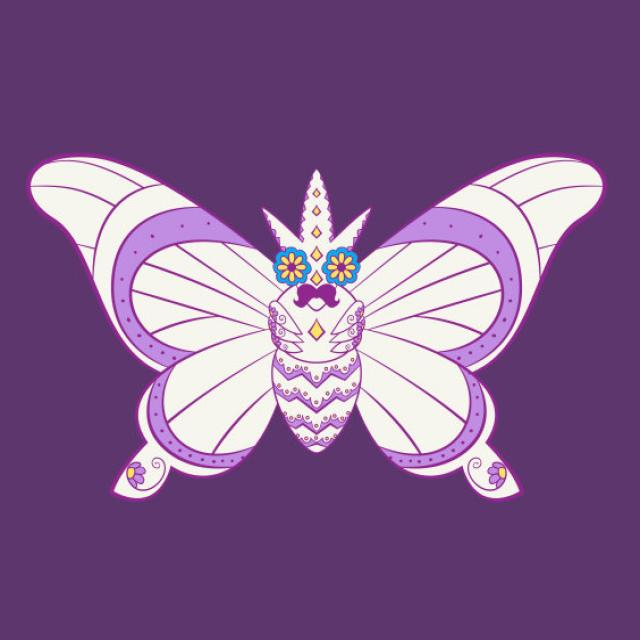Venomoth: (106, 194, 606, 527)
